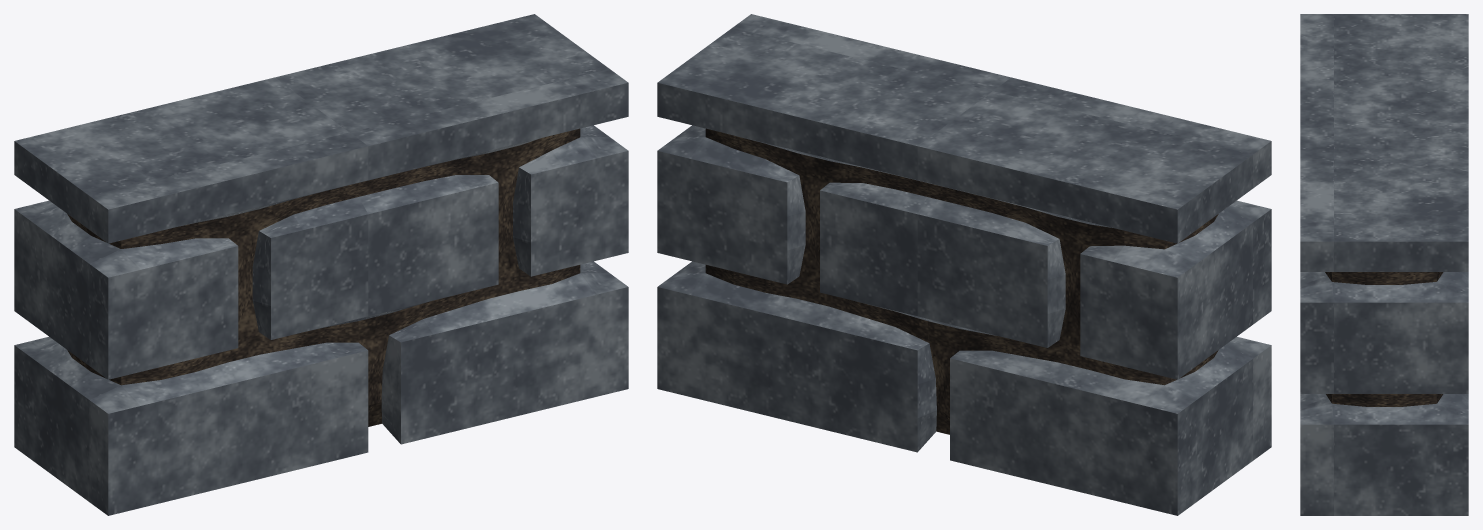
The model's file is pool_bank.glb.
3 views of the same model, side by side, from view 1: azimuth 30°, elevation 25°; view 2: azimuth 150°, elevation 25°; view 3: azimuth 270°, elevation 25° (orthographic). The views are drawn at different scales.
Parts seen in each view (by area): view 1: crypt_pool_bank; view 2: crypt_pool_bank; view 3: crypt_pool_bank.
Boxes of the visible parts, x1=… form: crypt_pool_bank: x1=14, y1=14, x2=628, y2=515; crypt_pool_bank: x1=657, y1=14, x2=1271, y2=515; crypt_pool_bank: x1=1300, y1=14, x2=1468, y2=515.
Size of the model in its own units: 1 by 0.5625 by 0.3125.
1 material, 1 textured.
